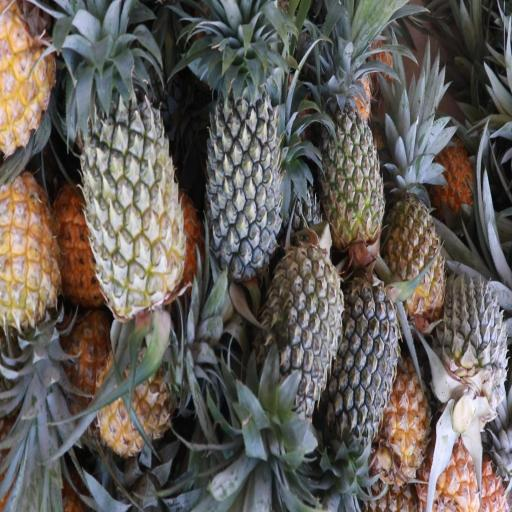------------------------------: (76, 74, 184, 308), (319, 84, 384, 250)
Pineapple - v8 v1: (103, 324, 212, 455), (0, 178, 66, 374), (384, 147, 445, 307), (381, 360, 444, 478)
